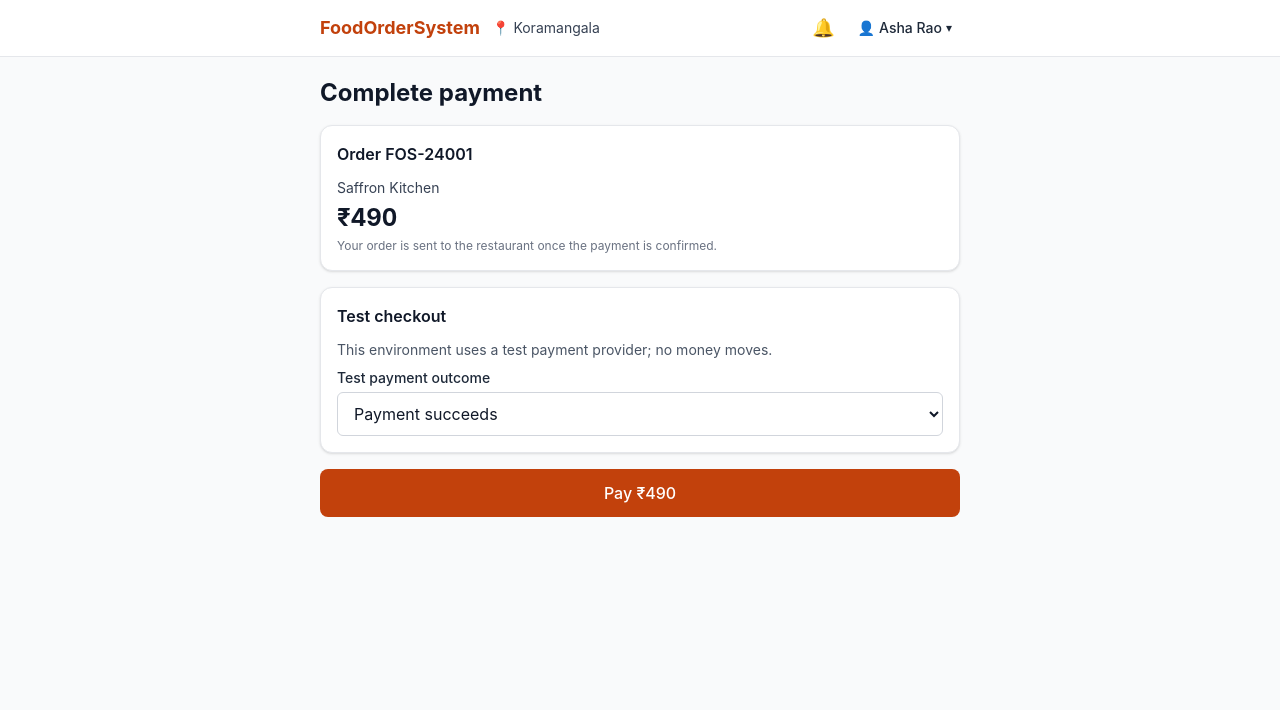
Test: customer ordering journey › completes an online payment through the test checkout
The width and height of the screenshot is (1280, 710).
Click the button "Pay ₹490": [640, 493] box x1=320 y1=469 x2=960 y2=517
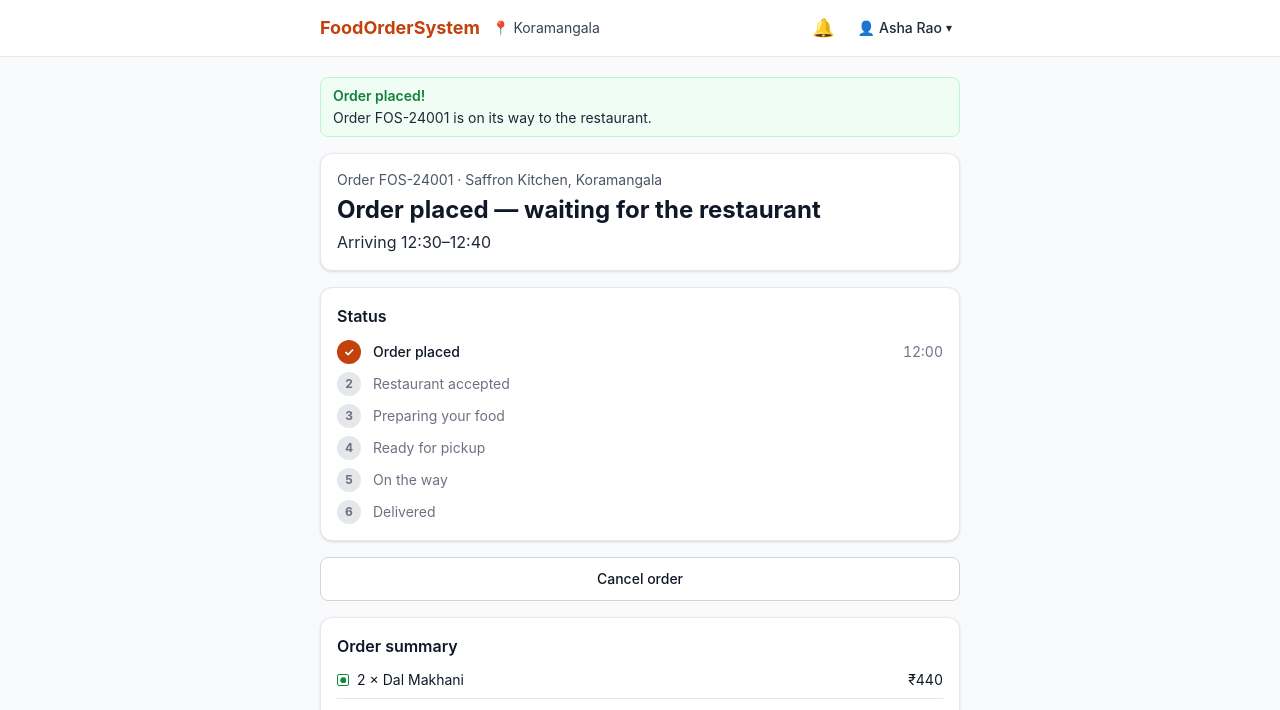
Check: the heading "Order placed — waiting for the restaurant" is shown, box x1=337 y1=195 x2=821 y2=224
